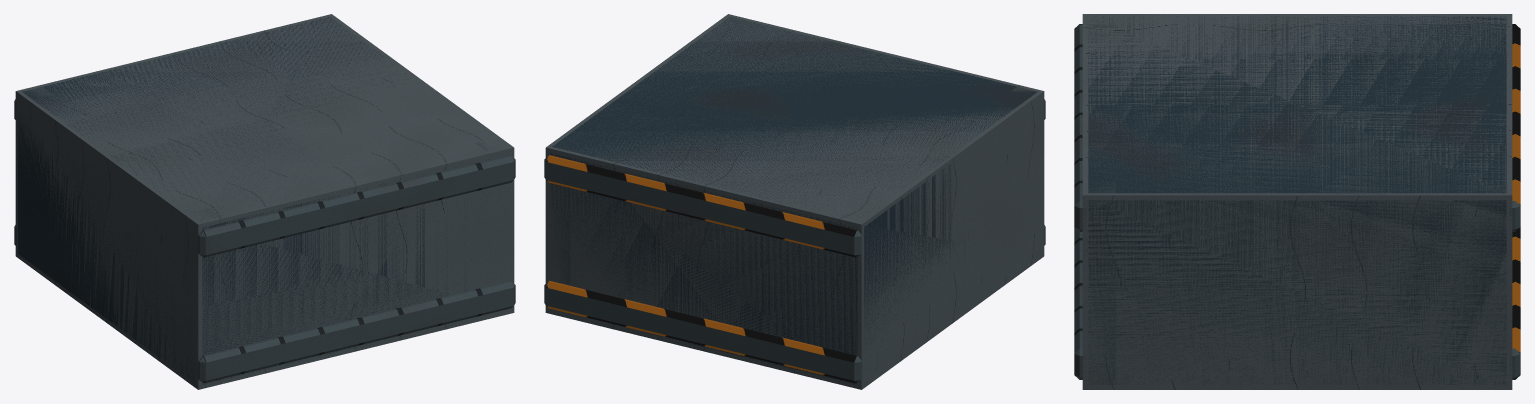
The model's file is Cover_CrateLow.fbx.
3 renders of one model, left to right at view 1: azimuth 30°, elevation 25°; view 2: azimuth 150°, elevation 25°; view 3: azimuth 270°, elevation 25°, orthographic. The views are drawn at different scales.
Visible parts, largest first — view 1: COL_Foundry_Cover_CrateLow_00_Both, ENV_Foundry_Cover_CrateLow_LOD0; view 2: COL_Foundry_Cover_CrateLow_00_Both, ENV_Foundry_Cover_CrateLow_LOD0; view 3: COL_Foundry_Cover_CrateLow_00_Both, ENV_Foundry_Cover_CrateLow_LOD0.
Boxes of the visible parts, x1,y1,x2,y2 form: COL_Foundry_Cover_CrateLow_00_Both: [15, 14, 514, 389]; ENV_Foundry_Cover_CrateLow_LOD0: [14, 17, 515, 384]; COL_Foundry_Cover_CrateLow_00_Both: [545, 14, 1044, 389]; ENV_Foundry_Cover_CrateLow_LOD0: [544, 17, 1045, 383]; COL_Foundry_Cover_CrateLow_00_Both: [1082, 14, 1512, 389]; ENV_Foundry_Cover_CrateLow_LOD0: [1074, 16, 1520, 384].
Size of what is drawn, in the model's own units: 2 by 1 by 2.08.
